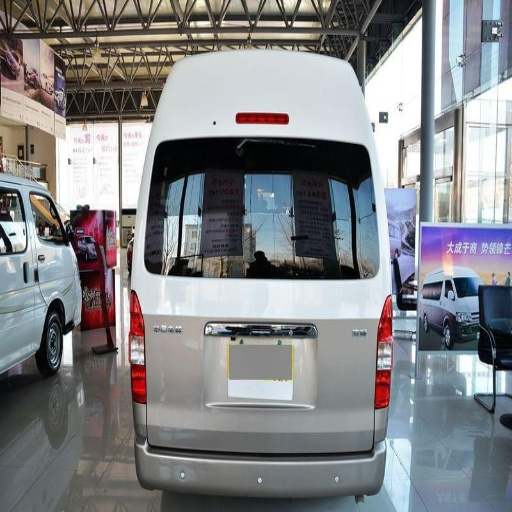back_bumper: (134, 405, 393, 491)
back_glass: (209, 188, 334, 277), (179, 62, 336, 110)
back_left_light: (128, 298, 145, 403)
back_right_door: (3, 190, 61, 262)
trunk: (137, 284, 383, 447)
